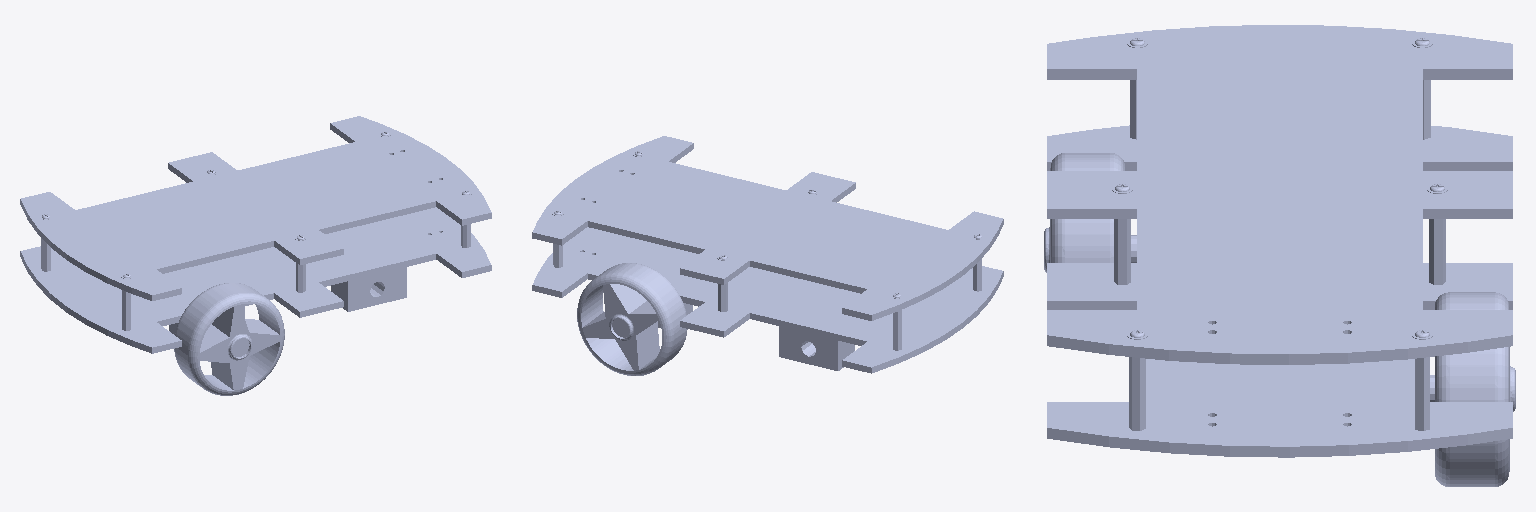
The robot description file, URDF, robot "prymbot_description":
<?xml version="1.0" encoding="utf-8"?>
<robot
  name="prymbot_description">
<!-- An fictitious joint between robot and world 0325-->
  <link name="base_footprint">
  </link>

  <joint name="base_footprint_joint" type="fixed">
     <origin xyz="0 0 0.0345" rpy="0 0 0" /> 
     <parent link="base_footprint"/>
     <child link="base_link"/>
   </joint>  

  <link
    name="base_link">
    <inertial>
      <origin
        xyz="3.5508E-05 5.9079E-08 0.0133"
        rpy="0 0 0" />
      <mass
        value="0.4" />
      <inertia
        ixx="0.00038538"
        ixy="-1.1812E-09"
        ixz="4.9094E-08"
        iyy="0.001533"
        iyz="-1.3901E-11"
        izz="0.0019021" />
    </inertial>
    <visual>
      <origin
        xyz="0 0 0"
        rpy="0 0 0" />
      <geometry>
        <mesh
          filename="package://prymbot_description/meshes/base_link.dae" />
      </geometry>
      <material
        name="black">
        <color
          rgba="0.79216 0.81961 0.93333 1" />
      </material>
    </visual>
    <collision>
      <origin
        xyz="0 0 0"
        rpy="0 0 0" />
      <geometry>
        <mesh
          filename="package://prymbot_description/meshes/base_link.STL" />
      </geometry>
    </collision>
  </link>
  <link
    name="front_left_wheel">
    <inertial>
      <origin
        xyz="0.00046378 -0.013212 0.00025812"
        rpy="0 0 0" />
      <mass
        value="0.047994" />
      <inertia
        ixx="1.563E-05"
        ixy="-1.5844E-08"
        ixz="-1.2492E-09"
        iyy="2.5045E-05"
        iyz="-8.8183E-09"
        izz="1.5589E-05" />
    </inertial>
    <visual>
      <origin
        xyz="0 0 0"
        rpy="0 0 0" />
      <geometry>
        <mesh
          filename="package://prymbot_description/meshes/front_left_wheel.dae" />
      </geometry>
      <material
        name="yellow">
        <color
          rgba="0.79216 0.81961 0.93333 1" />
      </material>
    </visual>
    <collision>
      <origin
        xyz="0 0 0"
        rpy="0 0 0" />
      <geometry>
        <mesh
          filename="package://prymbot_description/meshes/front_left_wheel.STL" />
      </geometry>
    </collision>
  </link>
  <joint
    name="front_left_joint"
    type="continuous">
    <origin
      xyz="0.055119 0.0765 -0.01"
      rpy="0 0 0" />
    <parent
      link="base_link" />
    <child
      link="front_left_wheel" />
    <axis
      xyz="0 1 0" />
    <limit
      effort="1"
      velocity="1" />
  </joint>
  <link
    name="rear_left_wheel">
    <inertial>
      <origin
        xyz="0.00046378 -0.013212 0.00025812"
        rpy="0 0 0" />
      <mass
        value="0.047994" />
      <inertia
        ixx="1.563E-05"
        ixy="-1.5844E-08"
        ixz="-1.2492E-09"
        iyy="2.5045E-05"
        iyz="-8.8183E-09"
        izz="1.5589E-05" />
    </inertial>
    <visual>
      <origin
        xyz="0 0 0"
        rpy="0 0 0" />
      <geometry>
        <mesh
          filename="package://prymbot_description/meshes/rear_left_wheel.dae" />
      </geometry>
      <material
        name="yellow">
        <color
          rgba="0.79216 0.81961 0.93333 1" />
      </material>
    </visual>
    <collision>
      <origin
        xyz="0 0 0"
        rpy="0 0 0" />
      <geometry>
        <mesh
          filename="package://prymbot_description/meshes/rear_left_wheel.STL" />
      </geometry>
    </collision>
  </link>
  <joint
    name="rear_left_joint"
    type="continuous">
    <origin
      xyz="-0.054881 0.0765 -0.01"
      rpy="0 0 0" />
    <parent
      link="base_link" />
    <child
      link="rear_left_wheel" />
    <axis
      xyz="0 1 0" />
    <limit
      effort="1"
      velocity="1" />
  </joint>
  <link
    name="rear_right_wheel">
    <inertial>
      <origin
        xyz="-0.00032618 0.013212 -0.00041872"
        rpy="0 0 0" />
      <mass
        value="0.047994" />
      <inertia
        ixx="1.5589E-05"
        ixy="-1.1143E-08"
        ixz="5.0772E-09"
        iyy="2.5045E-05"
        iyz="-1.4305E-08"
        izz="1.563E-05" />
    </inertial>
    <visual>
      <origin
        xyz="0 0 0"
        rpy="0 0 0" />
      <geometry>
        <mesh
          filename="package://prymbot_description/meshes/rear_right_wheel.dae" />
      </geometry>
      <material
        name="yellow">
        <color
          rgba="0.79216 0.81961 0.93333 1" />
      </material>
    </visual>
    <collision>
      <origin
        xyz="0 0 0"
        rpy="0 0 0" />
      <geometry>
        <mesh
          filename="package://prymbot_description/meshes/rear_right_wheel.STL" />
      </geometry>
    </collision>
  </link>
  <joint
    name="rear_right_joint"
    type="continuous">
    <origin
      xyz="-0.054881 -0.0765 -0.01"
      rpy="0 0 0" />
    <parent
      link="base_link" />
    <child
      link="rear_right_wheel" />
    <axis
      xyz="0 1 0" />
    <limit
      effort="1"
      velocity="1" />
  </joint>
  <link
    name="front_right_wheel">
    <inertial>
      <origin
        xyz="-0.00041566 0.013212 -0.00033008"
        rpy="0 0 0" />
      <mass
        value="0.047994" />
      <inertia
        ixx="1.5594E-05"
        ixy="-1.42E-08"
        ixz="1.3714E-08"
        iyy="2.5045E-05"
        iyz="-1.1276E-08"
        izz="1.5625E-05" />
    </inertial>
    <visual>
      <origin
        xyz="0 0 0"
        rpy="0 0 0" />
      <geometry>
        <mesh
          filename="package://prymbot_description/meshes/front_right_wheel.dae" />
      </geometry>
      <material
        name="yellow">
        <color
          rgba="0.79216 0.81961 0.93333 1" />
      </material>
    </visual>
    <collision>
      <origin
        xyz="0 0 0"
        rpy="0 0 0" />
      <geometry>
        <mesh
          filename="package://prymbot_description/meshes/front_right_wheel.STL" />
      </geometry>
    </collision>
  </link>
  <joint
    name="front_right_joint"
    type="continuous">
    <origin
      xyz="0.055119 -0.0765 -0.01"
      rpy="0 0 0" />
    <parent
      link="base_link" />
    <child
      link="front_right_wheel" />
    <axis
      xyz="0 1 0" />
    <limit
      effort="1"
      velocity="1" />
  </joint>

</robot>

--- What the picture shows (computed from the rendered views, not written in the file) ---
The picture shows the robot from 3 angles, left to right: view 1: azimuth 30°, elevation 25°; view 2: azimuth 150°, elevation 25°; view 3: azimuth 270°, elevation 25°; orthographic projection.
Robot: prymbot_description — 6 links, 5 joints (4 continuous, 1 fixed); root link base_footprint; default pose: every joint at zero.
Visible links, largest first — view 1: base_link, rear_right_wheel; view 2: base_link, front_left_wheel; view 3: base_link, front_left_wheel, rear_right_wheel.
Link boxes in pixels (x1,y1,x2,y2): base_link: (20,116,491,353); rear_right_wheel: (174,283,284,395); base_link: (532,136,1003,373); front_left_wheel: (577,263,687,375); base_link: (1047,25,1512,457); front_left_wheel: (1430,292,1515,486); rear_right_wheel: (1044,153,1136,272).
Size in the robot's own frame: 0.26 by 0.157 by 0.0817 metres.
Meshes: 5 distinct files referenced, 3 mesh visuals loaded (3 Collada DAE); not drawn: 2 (reference not matched to a file when rendering).